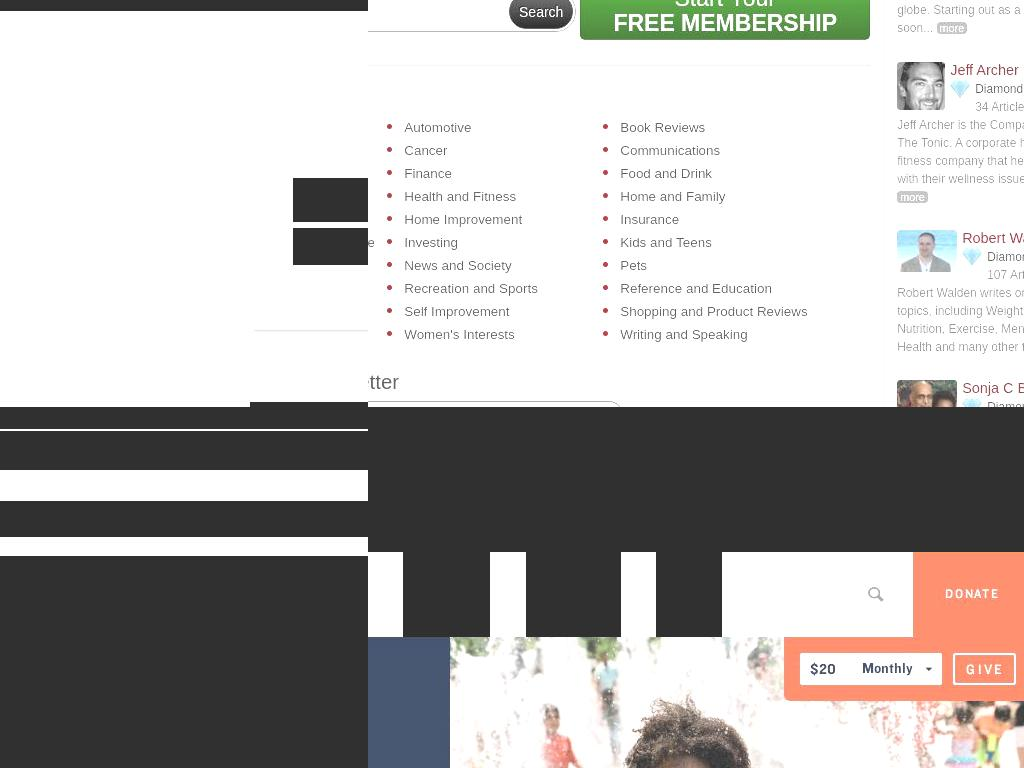button: (368, 407, 1024, 552), (580, 0, 871, 41), (912, 551, 1024, 637), (526, 551, 621, 637), (403, 551, 490, 637), (656, 551, 722, 637), (404, 116, 606, 140), (620, 116, 822, 140), (404, 139, 606, 163), (620, 139, 822, 163), (404, 162, 606, 186), (620, 162, 822, 186), (404, 185, 606, 209), (620, 185, 822, 209), (404, 208, 606, 232), (620, 208, 822, 232), (404, 231, 606, 255), (620, 231, 822, 255), (404, 254, 606, 278), (620, 254, 822, 278), (404, 277, 606, 301), (620, 277, 822, 301), (404, 300, 606, 324), (620, 300, 822, 324), (404, 323, 606, 347), (620, 323, 822, 347), (850, 652, 943, 685), (897, 229, 958, 272), (897, 61, 946, 110), (509, 0, 574, 30), (897, 380, 958, 407), (897, 190, 929, 203), (936, 22, 967, 35)
field: (293, 178, 368, 222), (368, 0, 486, 27), (293, 228, 368, 265), (953, 652, 1016, 685), (800, 652, 851, 685)
heading: (368, 551, 1012, 577), (368, 86, 875, 117), (368, 367, 642, 398), (950, 61, 1020, 78), (962, 229, 1024, 246), (962, 380, 1024, 397)
image: (0, 556, 368, 768), (449, 636, 1024, 768), (897, 229, 958, 272), (897, 61, 946, 110), (897, 380, 958, 407), (950, 79, 971, 99), (962, 247, 983, 267), (962, 398, 983, 407)
link: (584, 407, 1024, 443), (0, 431, 368, 470), (158, 431, 238, 448), (84, 431, 155, 448), (975, 81, 1024, 96), (987, 249, 1024, 264)
text: (0, 501, 368, 537), (897, 117, 1024, 186), (897, 285, 1024, 354), (0, 407, 368, 429), (584, 475, 751, 520), (613, 10, 838, 37), (897, 0, 1024, 36), (850, 652, 943, 685), (238, 431, 368, 448), (0, 431, 86, 448), (674, 0, 777, 12), (975, 99, 1024, 114), (987, 267, 1024, 282)
